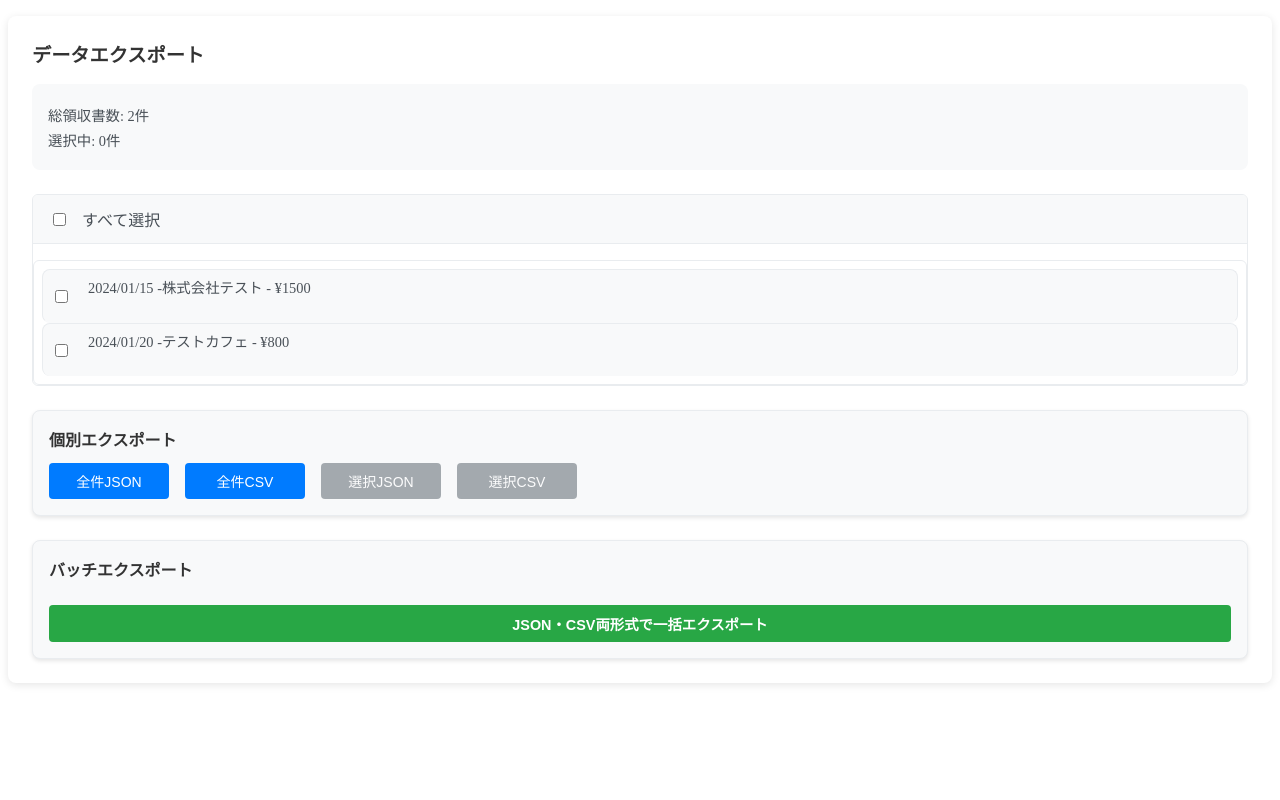
Test: ExportPanel › should show loading state during export
What coordinates should you click on to do the following:
click the button "全件JSON"
I would click on:
 (109, 481)
Its box is [49,463,169,499].
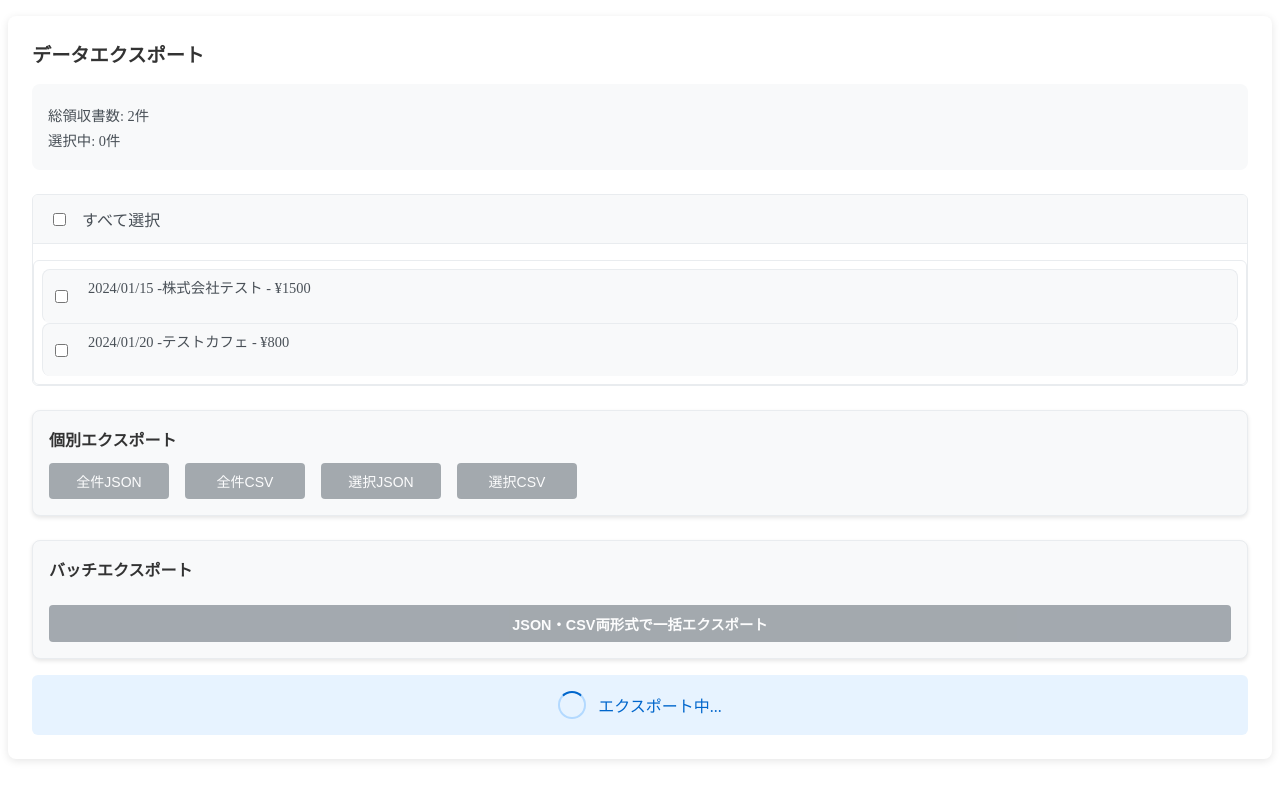
Check: the text "エクスポート中..." is shown, box [598,693,722,717]
